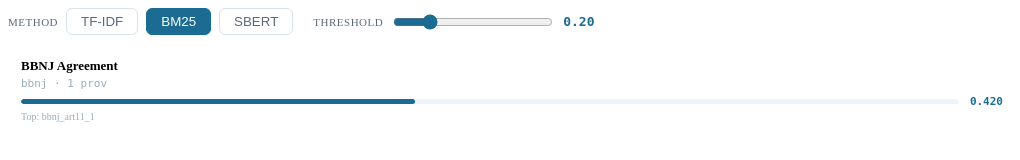
Test: ProvisionRetriever › D.2 #9 shows the threshold to two decimals and updates live
Check: the text with class "threshold-value" reads "0.20", box [563,14,594,29]
Set the slider with class "threshold-slider" to "45": (466, 22) [393,14,553,30]
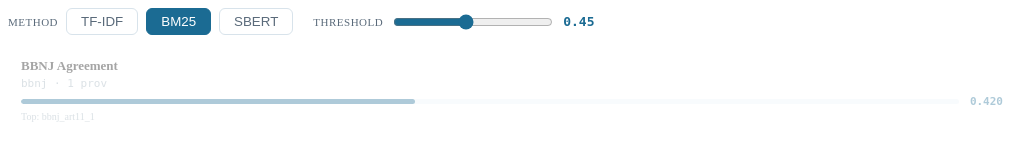
Check: the text with class "threshold-value" reads "0.45", box [563,14,594,29]
